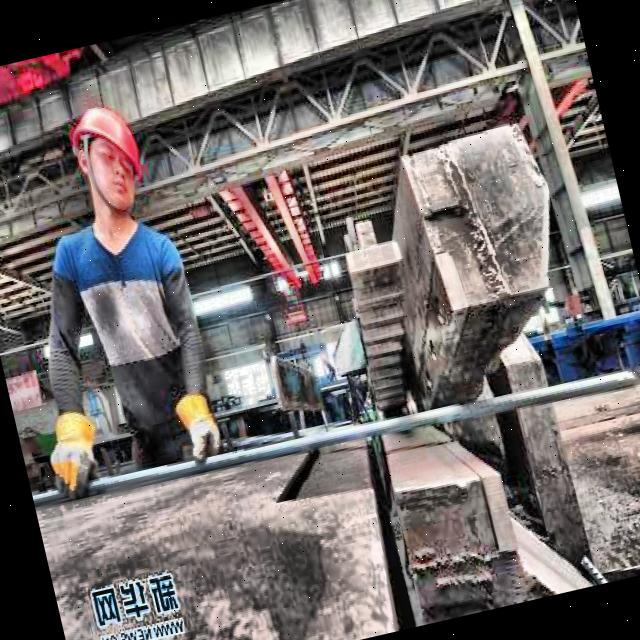helmet: (56, 86, 161, 230)
